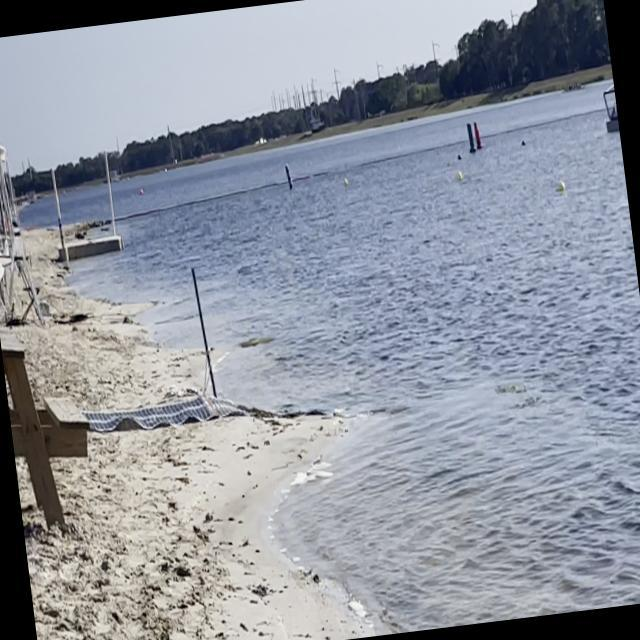buoy: (556, 176, 565, 192), (456, 170, 463, 181), (342, 176, 348, 187), (456, 154, 462, 161), (520, 139, 526, 146)
